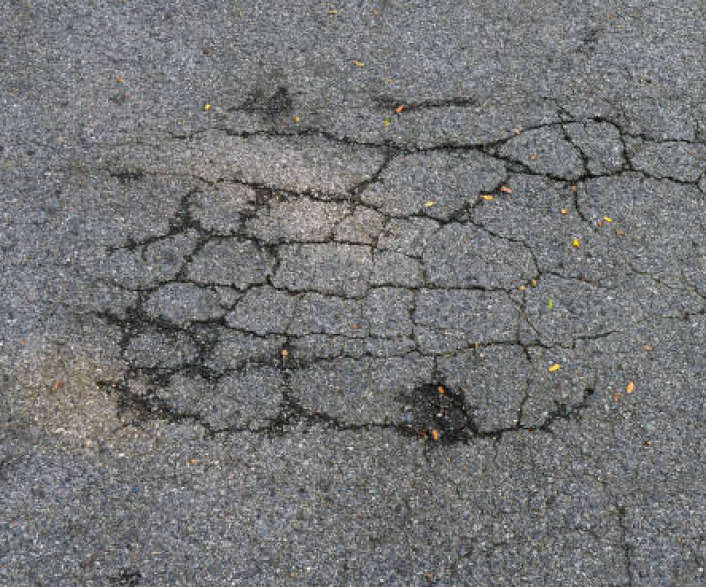Retak Buaya: (37, 93, 704, 458)
